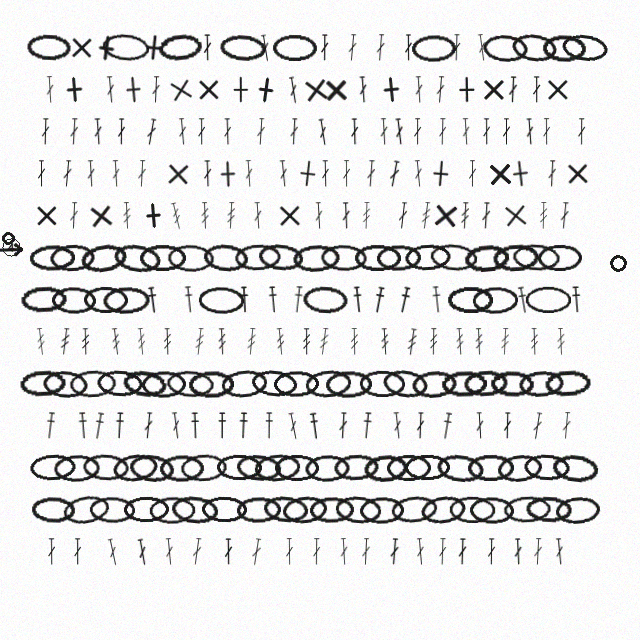chain: (61, 492, 111, 527), (112, 241, 162, 275), (79, 241, 128, 275), (510, 31, 559, 64), (381, 367, 430, 400), (560, 32, 610, 64), (435, 452, 485, 484), (111, 451, 159, 484), (419, 493, 467, 526), (121, 368, 169, 400), (128, 452, 176, 484), (551, 452, 599, 484), (101, 32, 150, 63), (429, 242, 478, 273), (253, 452, 302, 483), (170, 494, 219, 525), (334, 494, 383, 525), (390, 494, 439, 525), (496, 452, 543, 484), (202, 242, 250, 273), (257, 242, 305, 273), (220, 368, 268, 399), (250, 368, 298, 399), (304, 368, 352, 399), (262, 494, 310, 525), (157, 32, 204, 63), (281, 494, 328, 525), (292, 243, 340, 273), (166, 369, 214, 399), (235, 453, 283, 483), (554, 495, 602, 525), (219, 33, 266, 63), (463, 243, 510, 273), (42, 369, 89, 399), (411, 369, 458, 399), (518, 369, 565, 399), (512, 243, 560, 272), (69, 369, 117, 398), (96, 369, 144, 398), (82, 453, 130, 482), (523, 453, 571, 482), (503, 495, 551, 524), (482, 33, 528, 63), (363, 453, 409, 483), (49, 243, 96, 272), (234, 243, 281, 272), (404, 243, 451, 272), (492, 243, 539, 272), (20, 285, 67, 314), (302, 285, 349, 314), (19, 369, 66, 398), (544, 369, 591, 398), (29, 453, 76, 482), (180, 453, 227, 482), (333, 453, 380, 482), (525, 495, 572, 524), (167, 244, 215, 272), (320, 244, 368, 272), (102, 286, 150, 314), (53, 454, 101, 482), (26, 33, 72, 62), (463, 369, 509, 398), (273, 370, 320, 398), (325, 370, 372, 398), (304, 454, 351, 482), (149, 496, 196, 524), (411, 34, 457, 62), (29, 244, 75, 272), (376, 244, 422, 272), (51, 286, 97, 314), (198, 286, 244, 314), (472, 286, 518, 314), (141, 370, 187, 398), (188, 370, 234, 398), (441, 370, 487, 398), (159, 454, 205, 482), (89, 496, 135, 524), (236, 496, 282, 524), (309, 496, 355, 524), (139, 244, 186, 271), (354, 244, 401, 271), (216, 454, 263, 481), (404, 454, 451, 481), (467, 454, 514, 481), (449, 496, 496, 523), (542, 34, 587, 62), (490, 370, 535, 398), (31, 496, 76, 524), (359, 496, 404, 524), (469, 496, 514, 524), (272, 34, 318, 61), (537, 244, 583, 271), (447, 286, 493, 313), (525, 286, 571, 313), (359, 370, 405, 397), (274, 454, 320, 481), (123, 496, 169, 523), (201, 496, 247, 523), (83, 286, 128, 313), (386, 454, 431, 481)
double: (106, 538, 120, 566), (259, 34, 272, 62), (287, 76, 300, 104), (145, 118, 158, 146), (388, 160, 401, 188), (287, 412, 300, 440), (531, 412, 544, 440), (136, 538, 149, 566), (250, 538, 263, 566), (317, 118, 329, 146), (476, 34, 488, 61), (397, 202, 409, 229), (170, 412, 182, 439), (191, 538, 203, 565), (347, 34, 358, 61), (375, 34, 386, 61), (105, 76, 116, 103), (435, 76, 446, 103), (177, 118, 188, 145), (394, 118, 405, 145), (62, 160, 73, 187), (278, 160, 289, 187), (413, 160, 424, 187), (559, 202, 570, 229), (143, 412, 154, 439), (392, 412, 403, 439), (561, 412, 572, 439), (164, 538, 175, 565), (389, 538, 400, 565), (415, 538, 426, 565), (554, 538, 565, 565), (45, 76, 55, 103), (151, 76, 161, 103), (358, 76, 368, 103), (414, 76, 424, 103), (508, 76, 518, 103), (69, 118, 79, 145), (93, 118, 103, 145), (256, 118, 266, 145), (289, 118, 299, 145), (379, 118, 389, 145), (461, 118, 471, 145), (525, 118, 535, 145), (86, 160, 96, 187), (111, 160, 121, 187), (137, 160, 147, 187), (244, 160, 254, 187), (366, 160, 376, 187), (547, 160, 557, 187), (69, 202, 79, 229), (253, 202, 263, 229), (314, 202, 324, 229), (341, 202, 351, 229), (481, 202, 491, 229), (338, 412, 348, 439), (475, 412, 485, 439), (339, 538, 349, 565), (361, 538, 371, 565), (513, 538, 523, 565), (533, 538, 543, 565), (203, 34, 212, 61), (320, 34, 329, 61), (404, 34, 413, 61), (452, 34, 461, 61), (532, 76, 541, 103), (41, 118, 50, 145), (117, 118, 126, 145), (197, 118, 206, 145), (223, 118, 232, 145), (350, 118, 359, 145), (413, 118, 422, 145), (438, 118, 447, 145), (482, 118, 491, 145), (502, 118, 511, 145), (542, 118, 551, 145), (577, 118, 586, 145), (37, 160, 46, 187), (203, 160, 212, 187), (321, 160, 330, 187), (342, 160, 351, 187), (468, 160, 477, 187), (416, 412, 425, 439), (503, 412, 512, 439), (47, 538, 56, 565), (73, 538, 82, 565), (224, 538, 233, 565), (285, 538, 294, 565), (312, 538, 321, 565), (438, 538, 447, 565), (458, 538, 467, 565), (487, 538, 496, 565)
half_double: (397, 286, 412, 314), (372, 286, 386, 314), (516, 286, 530, 314), (92, 412, 106, 440), (440, 412, 454, 440), (146, 286, 159, 314), (308, 412, 321, 440), (44, 412, 57, 439), (183, 286, 195, 313), (267, 286, 279, 313), (292, 286, 304, 313), (352, 286, 364, 313), (431, 286, 443, 313), (77, 412, 89, 439), (361, 412, 373, 439), (239, 286, 250, 313), (571, 286, 582, 313), (114, 412, 125, 439), (238, 412, 249, 439), (190, 412, 200, 439), (217, 412, 227, 439), (264, 412, 274, 439)
noise: (0, 236, 22, 258), (608, 253, 629, 274), (0, 241, 25, 258), (0, 230, 16, 246)
single: (165, 74, 197, 106), (91, 33, 121, 63), (251, 75, 281, 105), (301, 75, 331, 105), (86, 201, 116, 231), (139, 33, 168, 62), (60, 75, 89, 104), (119, 75, 148, 104), (377, 75, 406, 104), (293, 159, 322, 188), (426, 159, 455, 188), (506, 159, 535, 188), (139, 201, 168, 230), (431, 201, 460, 230), (501, 201, 530, 230), (322, 76, 350, 104), (164, 160, 192, 188), (214, 160, 242, 188), (486, 160, 514, 188), (68, 34, 95, 61), (195, 76, 222, 103), (227, 76, 254, 103), (453, 76, 480, 103), (480, 76, 507, 103), (544, 76, 571, 103), (564, 160, 591, 187), (33, 202, 60, 229), (276, 202, 303, 229)
treble: (169, 202, 184, 230), (406, 328, 418, 356), (420, 202, 432, 229), (35, 328, 47, 355), (59, 328, 71, 355), (110, 328, 122, 355), (318, 328, 330, 355), (136, 328, 147, 355), (194, 328, 205, 355), (246, 328, 257, 355), (275, 328, 286, 355), (122, 202, 132, 229), (200, 202, 210, 229), (226, 202, 236, 229), (460, 202, 470, 229), (217, 328, 227, 355), (380, 328, 390, 355), (455, 328, 465, 355), (474, 328, 484, 355), (500, 328, 510, 355), (556, 328, 566, 355), (362, 202, 371, 229), (539, 202, 548, 229), (81, 328, 90, 355), (163, 328, 172, 355), (302, 328, 311, 355), (350, 328, 359, 355), (429, 328, 438, 355), (530, 328, 539, 355)
